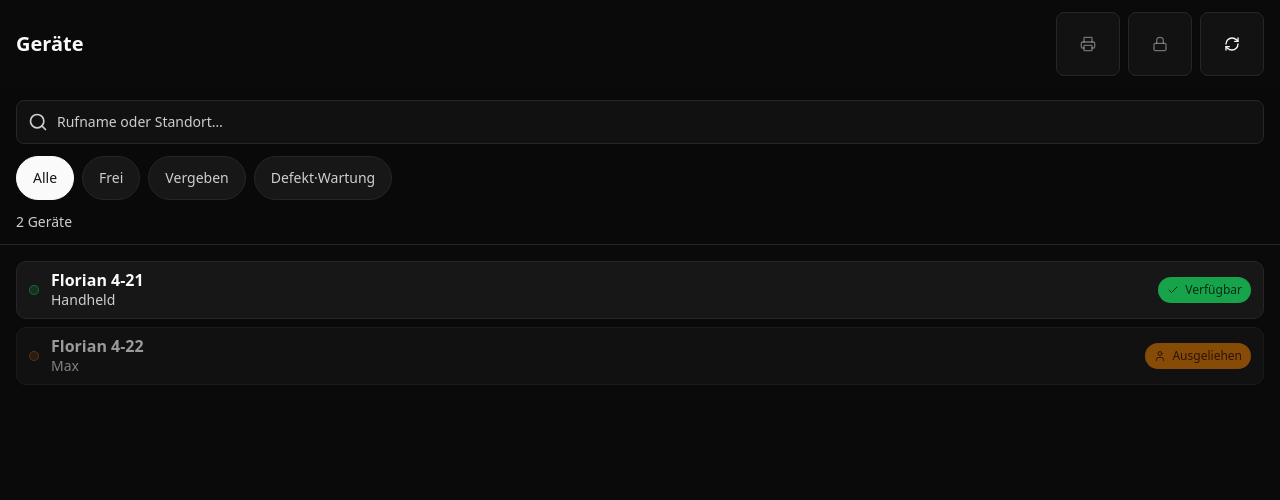
Test case: DeviceList › getUserFriendlyErrorMessage › shows timeout error message for timeout failures
The width and height of the screenshot is (1280, 500).
Click the button named "aktualisieren" at (1232, 44), box [1200,12,1264,76]
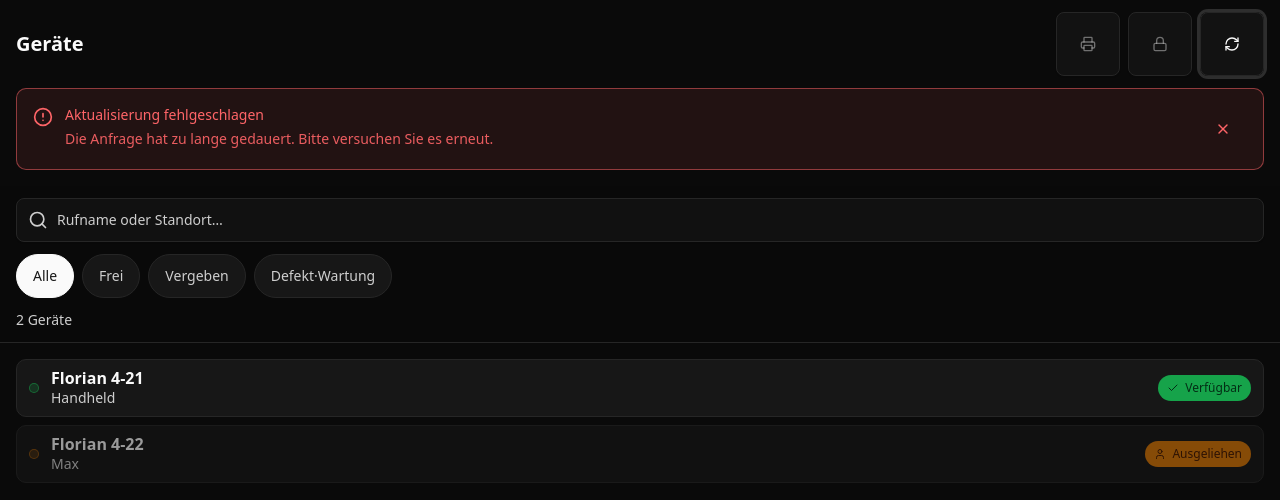
Expected: the text "Die Anfrage hat zu lange gedauert" is shown, [65,129,493,148]
